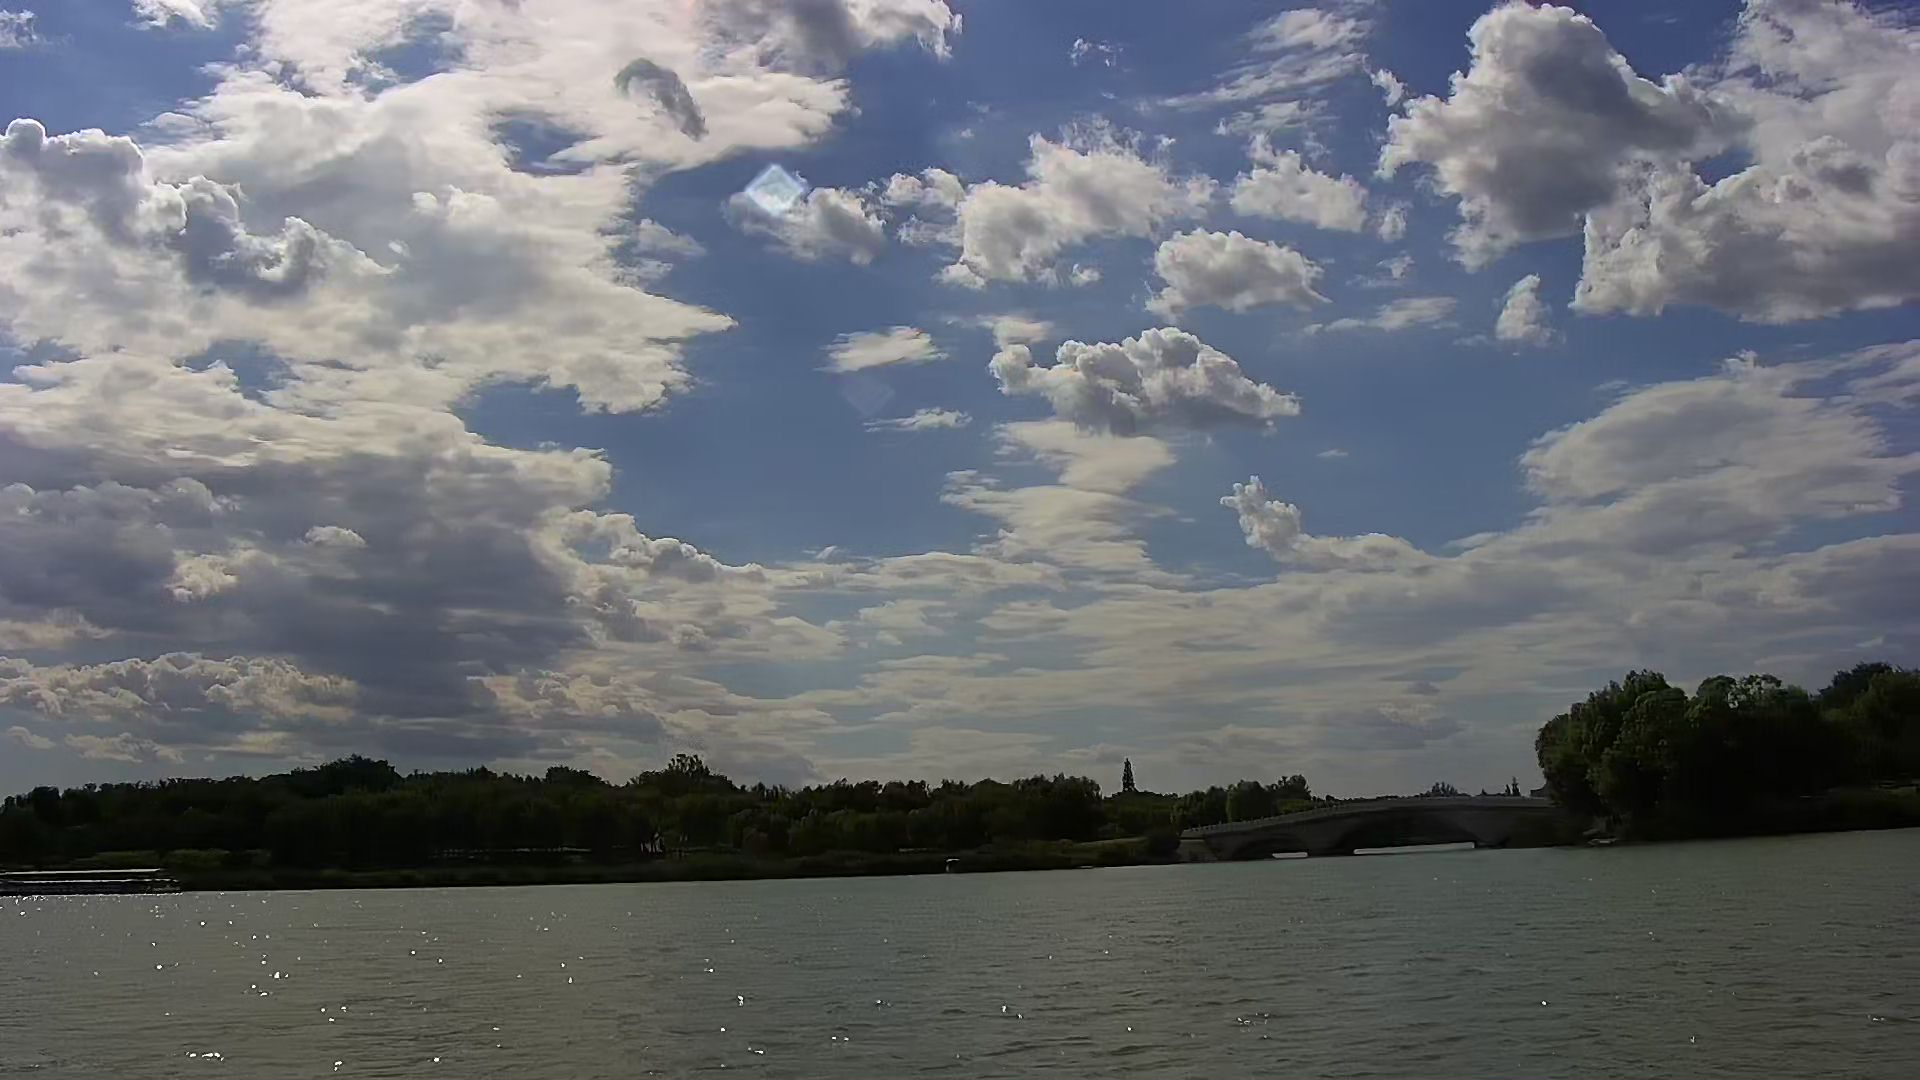bridge: (1182, 793, 1560, 858)
harbor: (1, 866, 177, 895)
